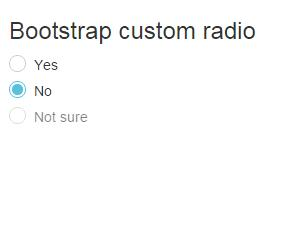checkbox: (5, 103, 31, 127), (6, 78, 31, 99), (7, 52, 28, 74)
